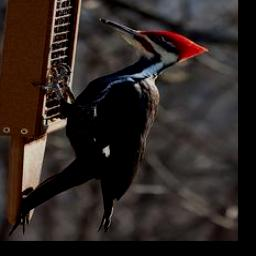Woodpecker: (9, 16, 211, 236)
